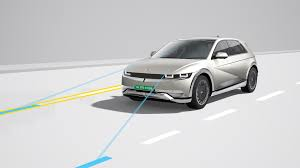Honda Ioniq: (118, 29, 261, 125)
